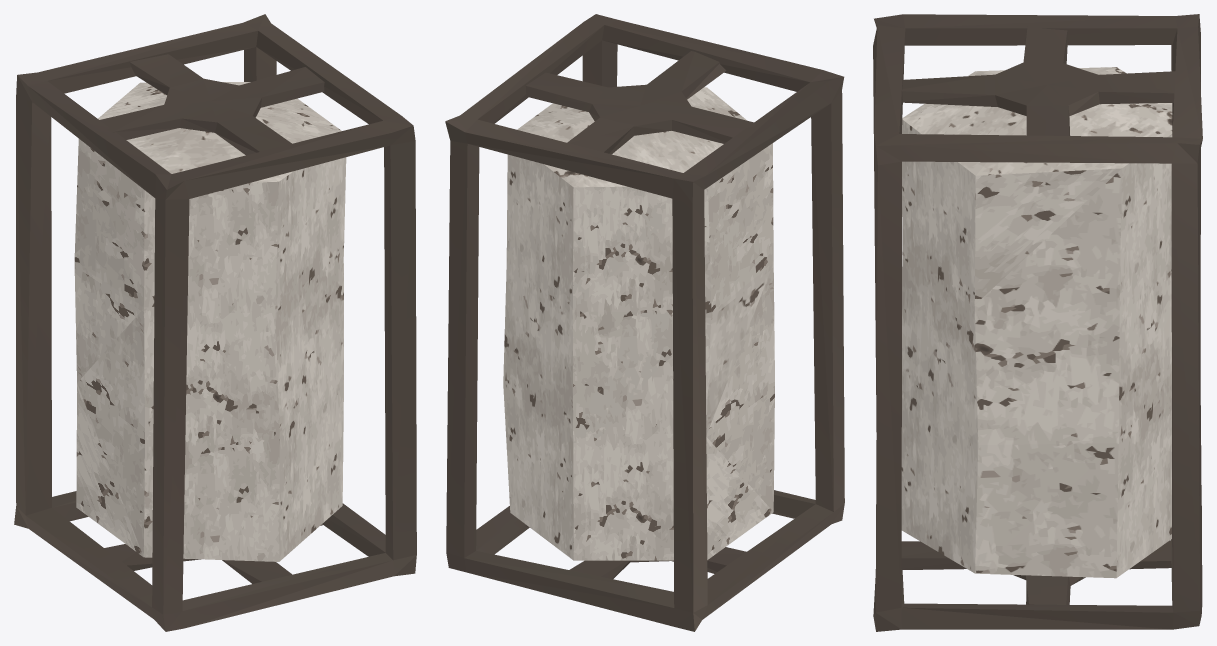
Rendered from tanque.glb.
3 renders of one model, left to right at view 1: azimuth 30°, elevation 25°; view 2: azimuth 150°, elevation 25°; view 3: azimuth 270°, elevation 25°, orthographic. The views are drawn at different scales.
Parts seen in each view (by area): view 1: Container; view 2: Container; view 3: Container.
Part boxes in pixels (bbox=[...]): Container: bbox=[14, 14, 416, 631]; Container: bbox=[445, 14, 844, 631]; Container: bbox=[873, 14, 1202, 631].
Bounding box in the file's own units: 1.63 × 2.77 × 1.7.
Materials: 1 (1 with a texture image).
